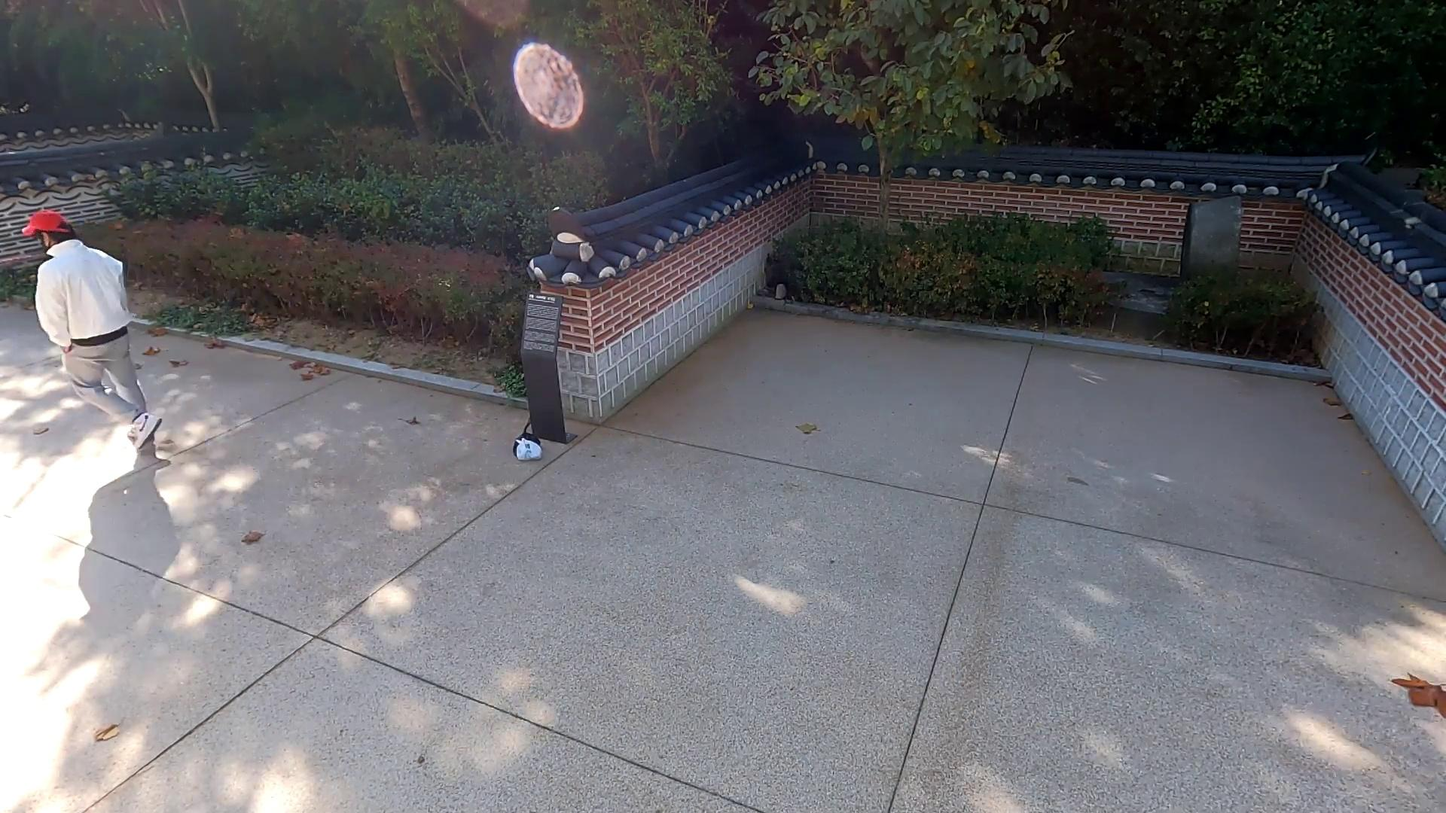person: (21, 207, 163, 454)
trash: (512, 419, 543, 459), (516, 439, 544, 464)
